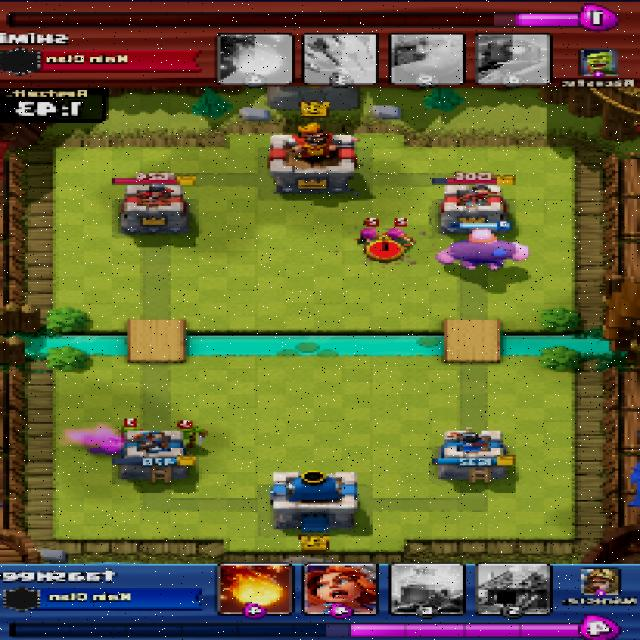Enemy-Archer: (355, 226, 384, 251), (384, 230, 416, 248)
Enemy-Goblin: (177, 424, 211, 446), (115, 425, 143, 442)
Player-Giant: (437, 228, 532, 270)
